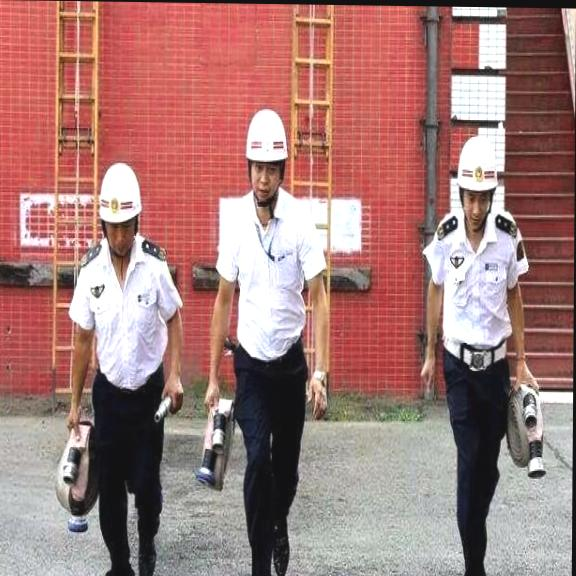no_safety_vest: (215, 199, 329, 360), (419, 220, 530, 369), (68, 241, 177, 388)
